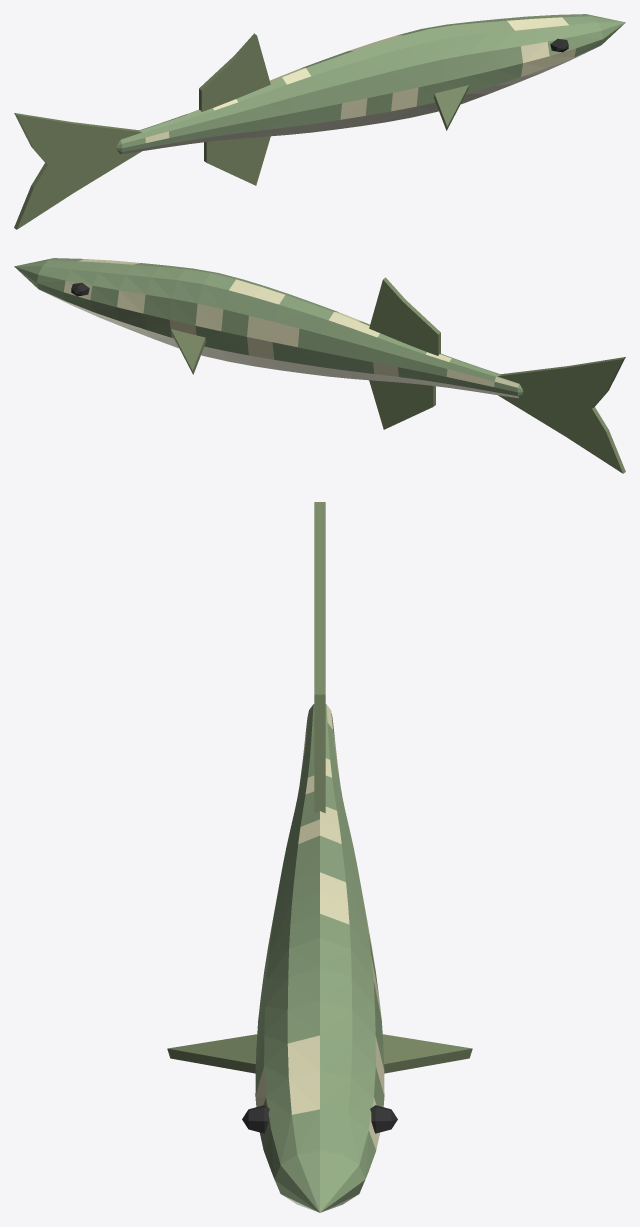
The model's file is fish_pike.fbx.
The picture shows the model from 3 angles, top to bottom: view 1: azimuth 30°, elevation 25°; view 2: azimuth 150°, elevation 25°; view 3: azimuth 270°, elevation 25°; orthographic projection. The views are drawn at different scales.
Parts seen in each view (by area): view 1: fish_pike; view 2: fish_pike; view 3: fish_pike.
Boxes of the visible parts, x1,y1,x2,y2 form: fish_pike: [14, 14, 625, 229]; fish_pike: [14, 258, 625, 473]; fish_pike: [167, 502, 472, 1212].
Size of the model in its own units: 70 by 16.47 by 15.17.
